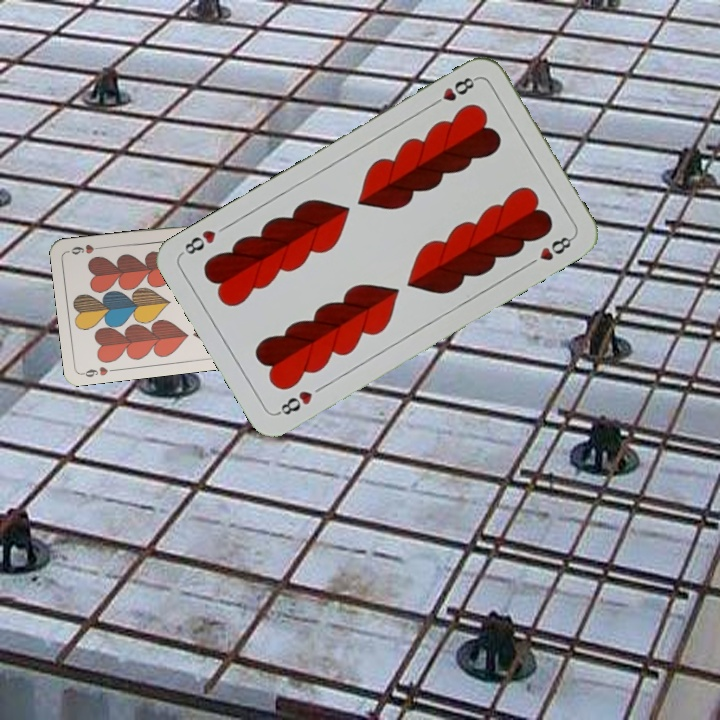H8: (427, 73, 480, 110), (273, 386, 316, 418)
H9: (78, 363, 119, 380)
